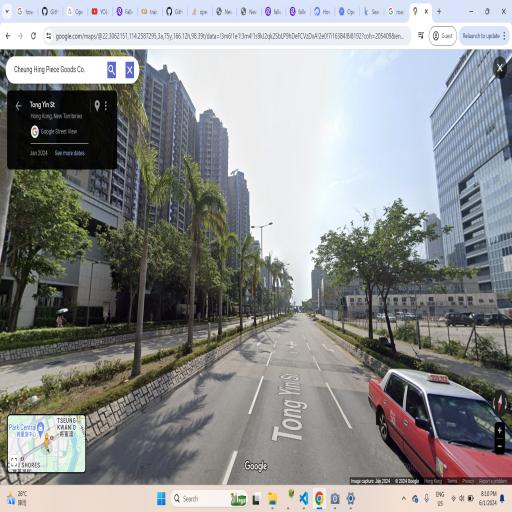Roads: (128, 316, 358, 462)
Trees: (334, 198, 432, 350), (129, 127, 165, 389), (173, 135, 207, 359), (204, 179, 237, 346)
